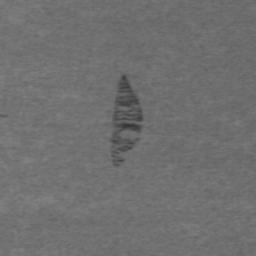Secondary rust skin: (109, 73, 144, 168)
